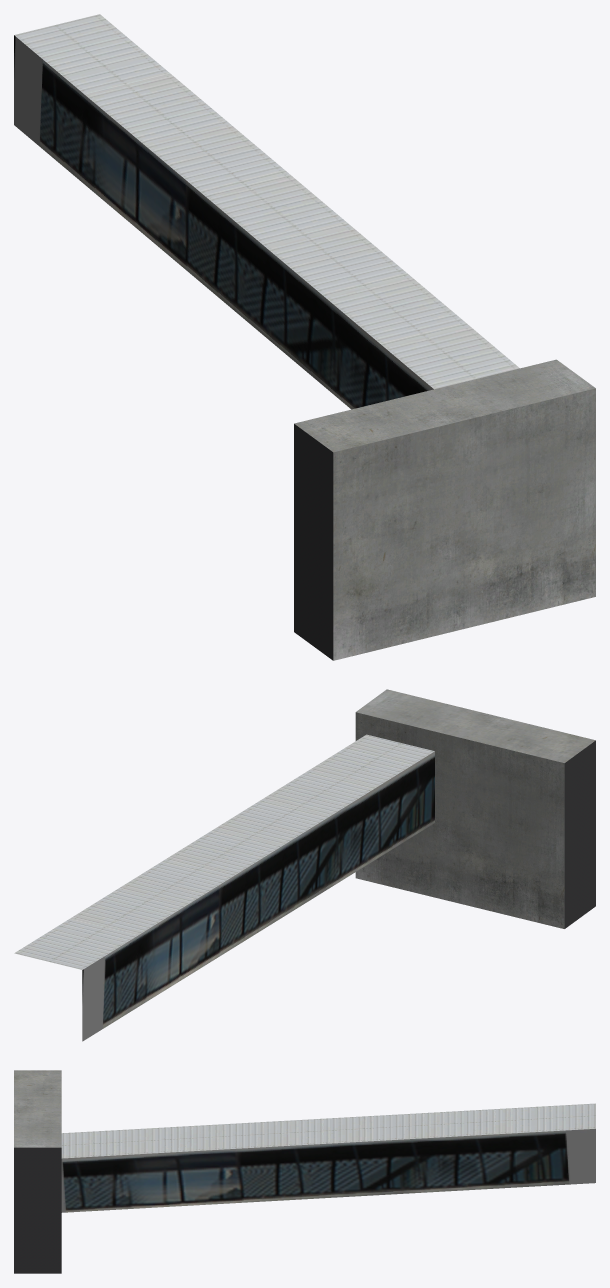
The model's file is FINGER.gltf.
3 views of the same model, one above another, from view 1: azimuth 30°, elevation 25°; view 2: azimuth 150°, elevation 25°; view 3: azimuth 270°, elevation 25° (orthographic). The views are drawn at different scales.
Parts seen in each view (by area): view 1: node1; view 2: node1; view 3: node1.
Part boxes in pixels (left/top/right/bottom): node1: left=14, top=14, right=595, bottom=660; node1: left=14, top=689, right=595, bottom=1041; node1: left=14, top=1070, right=595, bottom=1273.
Size of the model in its own units: 11.85 by 10.05 by 37.69.
